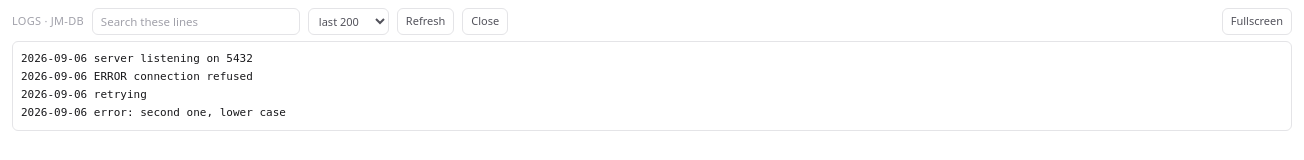
Test: AC-2 / AC-3 — search filters, counts and marks › clearing the box restores every line
In the field with test id "docker-logs-search": (196,22) x1=92 y1=8 x2=300 y2=35, type "retrying"
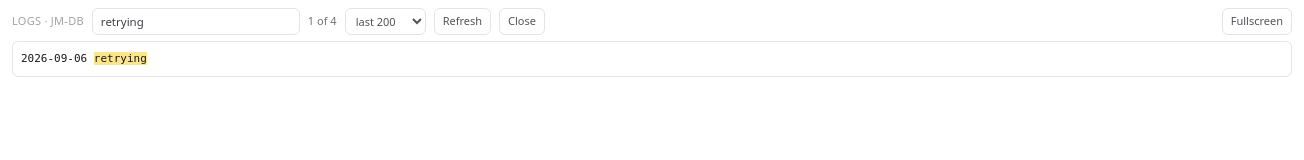
Clear the field with test id "docker-logs-search": (196,22) x1=92 y1=8 x2=300 y2=35
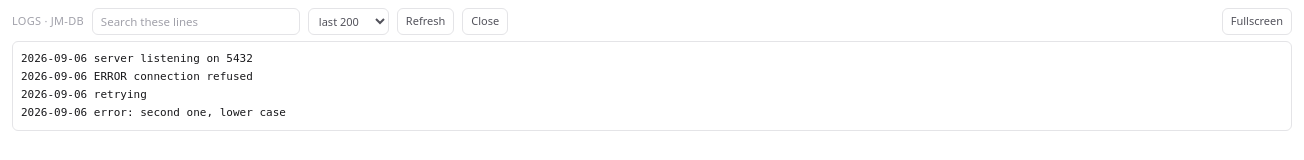
expect the text with test id "docker-logs-count" is gone: met
